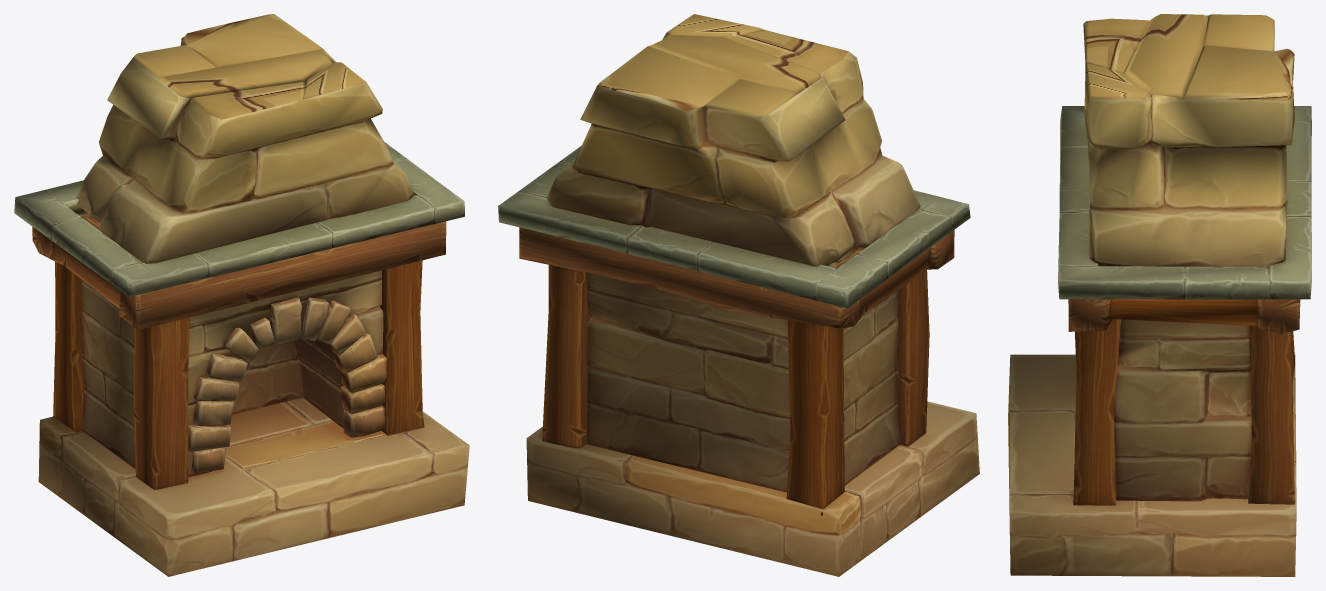
File: fireplace.fbx
3 renders of one model, left to right at view 1: azimuth 30°, elevation 25°; view 2: azimuth 150°, elevation 25°; view 3: azimuth 270°, elevation 25°, orthographic. The views are drawn at different scales.
Visible parts, largest first — view 1: SM_Fireplace_fireplace; view 2: SM_Fireplace_fireplace; view 3: SM_Fireplace_fireplace.
Boxes of the visible parts, left/top/right/bottom form: SM_Fireplace_fireplace: left=14, top=14, right=469, bottom=576; SM_Fireplace_fireplace: left=498, top=14, right=979, bottom=576; SM_Fireplace_fireplace: left=1008, top=14, right=1311, bottom=576.
Size of the model in its own units: 187 by 221 by 135.
1 material, 1 textured.
